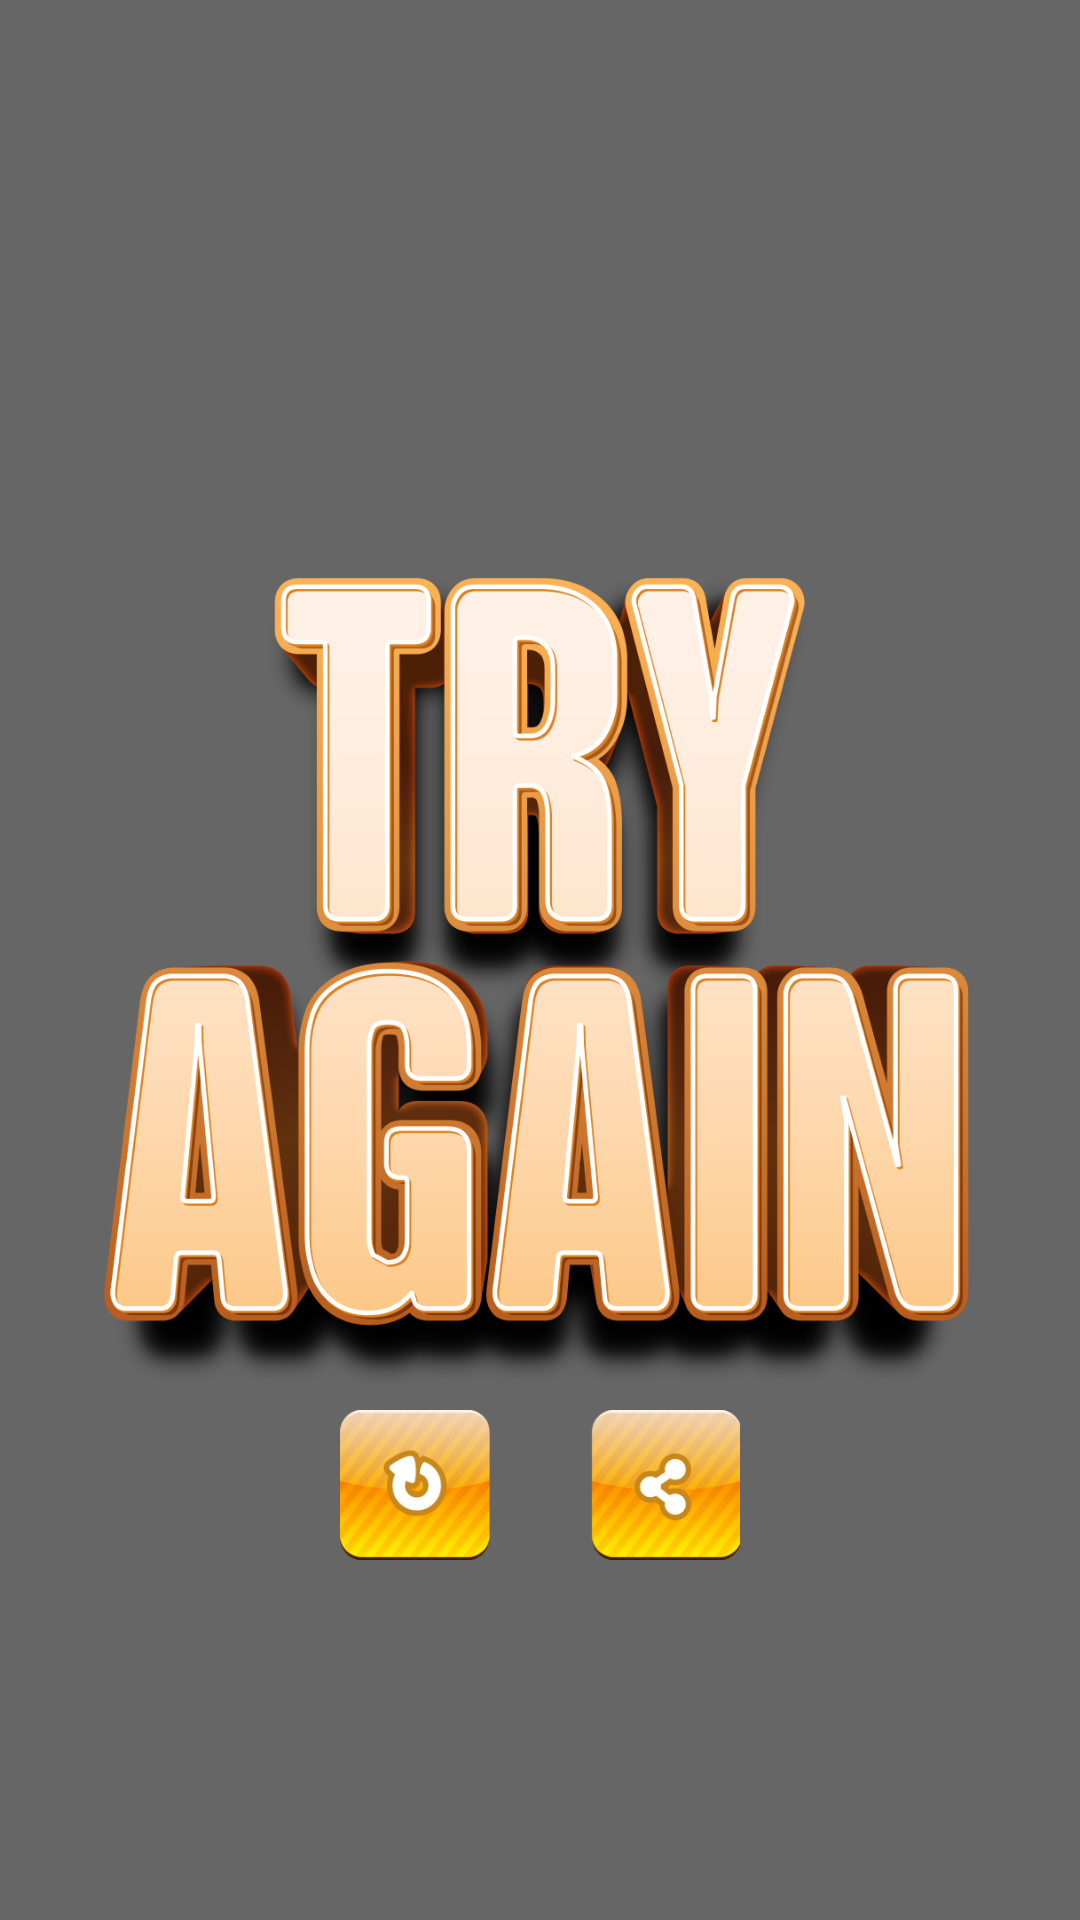

Locate icon controls on the screen. Image size 1080w x 1920h, boxes as (x1, y1, x2, y2).
replay: (340, 1410, 490, 1560)
share: (592, 1410, 740, 1560)
